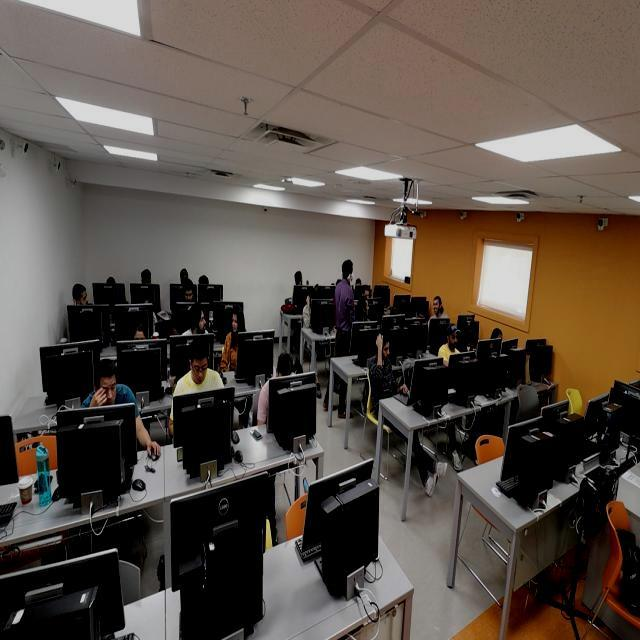Looking away: (99, 372, 118, 408), (192, 356, 209, 384), (446, 330, 459, 350), (380, 338, 390, 361), (230, 312, 240, 333), (198, 309, 206, 334), (79, 288, 89, 306), (432, 296, 441, 316), (183, 288, 194, 303)
